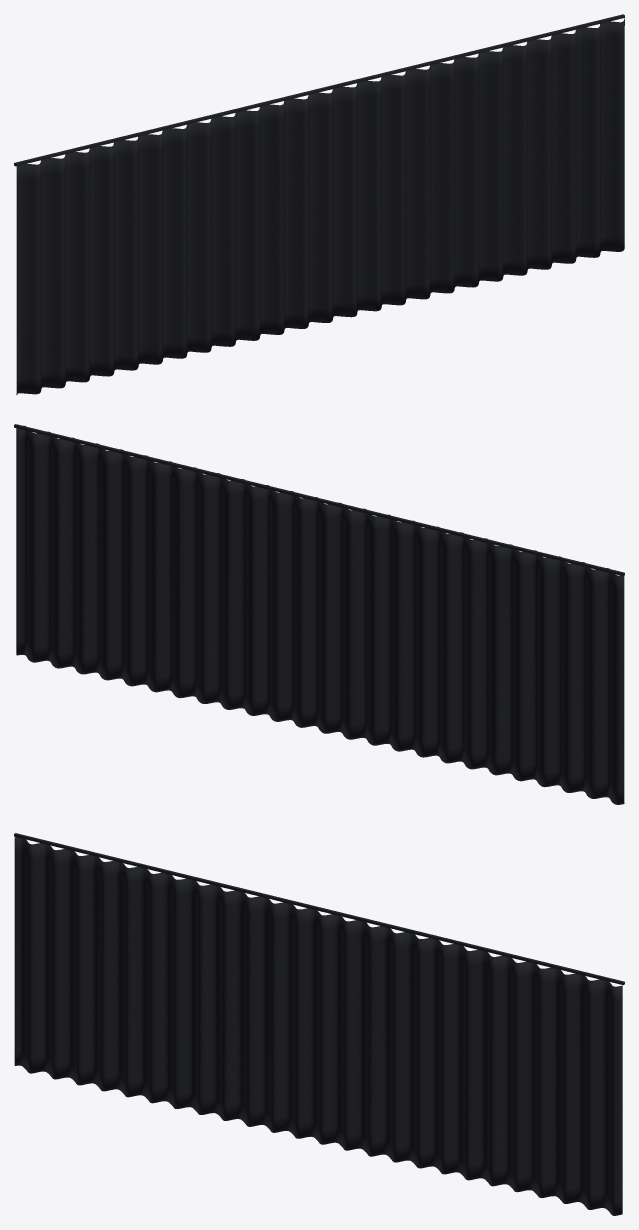
The model's file is 29_black_backdrop.glb.
3 views of the same model, one above another, from view 1: azimuth 30°, elevation 25°; view 2: azimuth 150°, elevation 25°; view 3: azimuth 330°, elevation 25° (orthographic).
Parts seen in each view (by area): view 1: 29_black_backdrop__folded_fabric, 29_black_backdrop__top_hanging_rail, 29_black_backdrop__bottom_hem; view 2: 29_black_backdrop__folded_fabric, 29_black_backdrop__top_hanging_rail, 29_black_backdrop__bottom_hem; view 3: 29_black_backdrop__folded_fabric, 29_black_backdrop__top_hanging_rail, 29_black_backdrop__bottom_hem.
Part boxes in pixels (x1,y1,x2,y2): 29_black_backdrop__folded_fabric: (16,18,624,394); 29_black_backdrop__top_hanging_rail: (14,14,624,166); 29_black_backdrop__bottom_hem: (16,250,623,394); 29_black_backdrop__folded_fabric: (16,425,624,803); 29_black_backdrop__top_hanging_rail: (14,424,624,576); 29_black_backdrop__bottom_hem: (17,654,624,804); 29_black_backdrop__folded_fabric: (14,837,622,1215); 29_black_backdrop__top_hanging_rail: (14,833,624,985); 29_black_backdrop__bottom_hem: (15,1065,622,1215).
Size of the model in its own units: 10.03 by 3.66 by 0.1671.
Materials: 2 (2 with a texture image).
